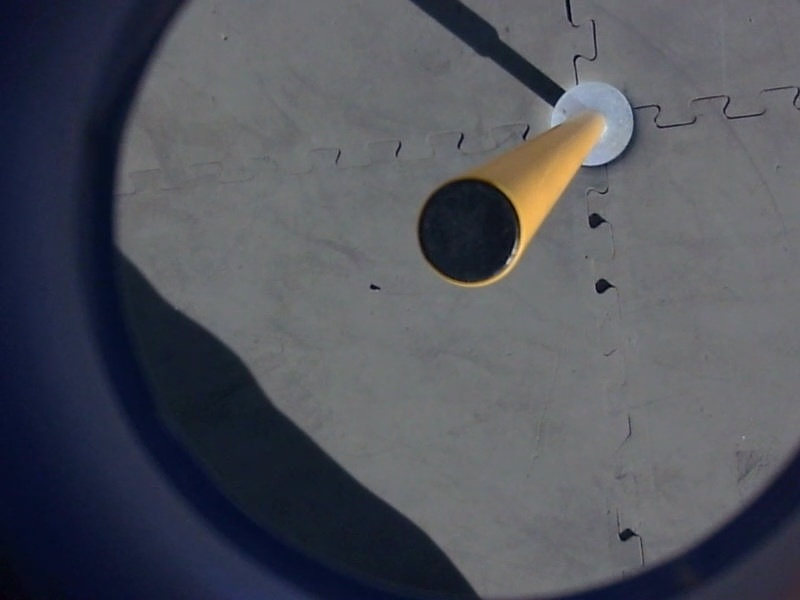tip: (410, 170, 530, 295)
